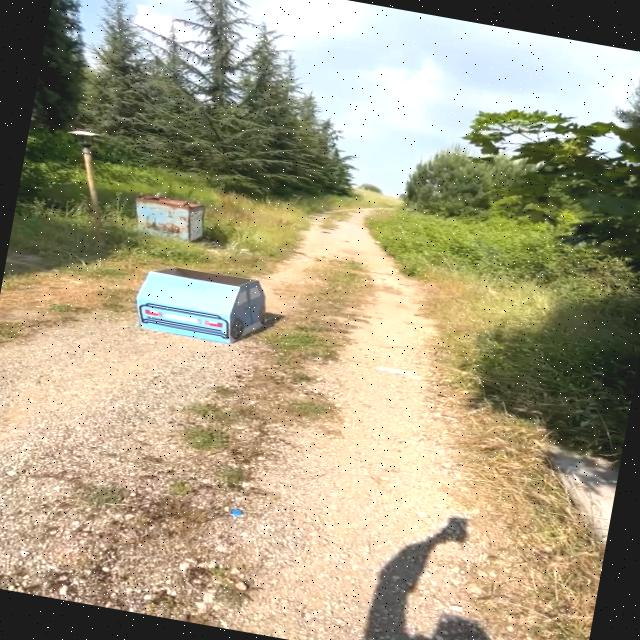blue_car: (104, 242, 305, 367)
